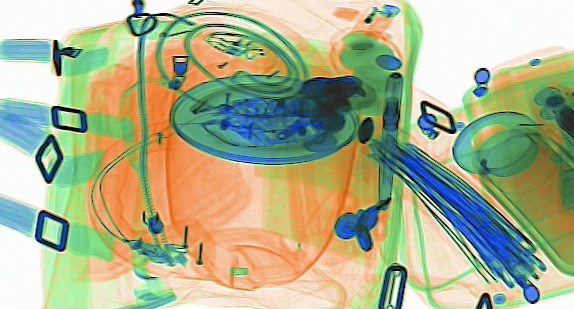lighter: (340, 1, 402, 53)
